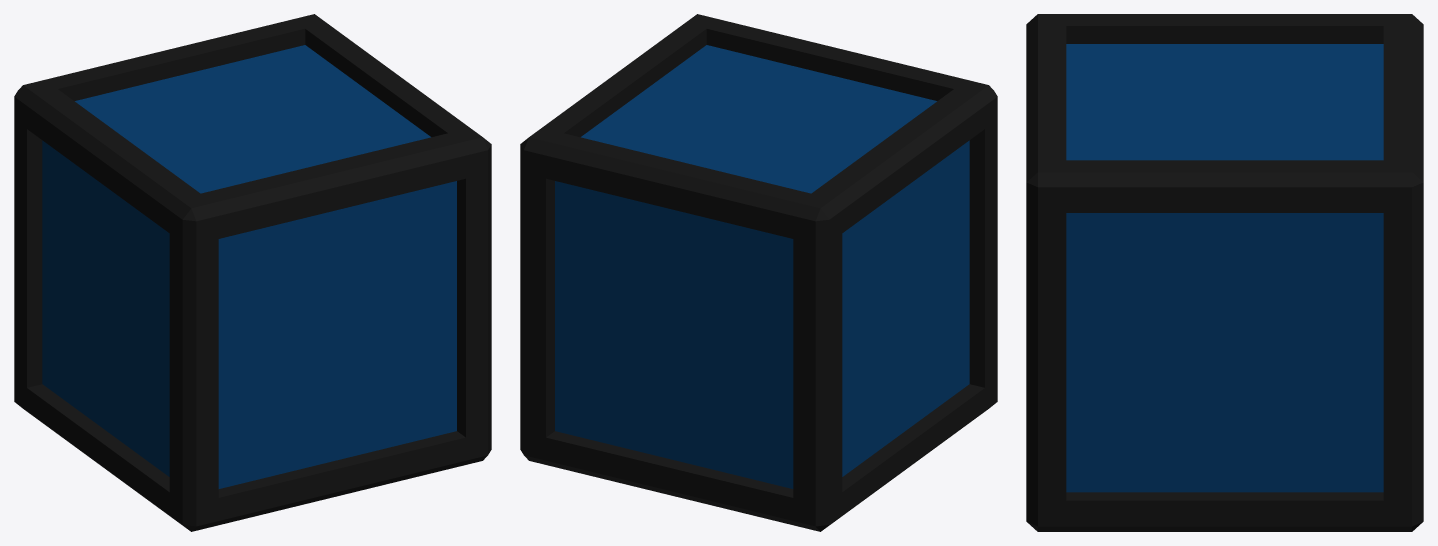
Rendered from Cubes.fbx.
3 renders of one model, left to right at view 1: azimuth 30°, elevation 25°; view 2: azimuth 150°, elevation 25°; view 3: azimuth 270°, elevation 25°, orthographic. The views are drawn at different scales.
Visible parts, largest first — view 1: CubeBlue; view 2: CubeBlue; view 3: CubeBlue.
Boxes of the visible parts, x1,y1,x2,y2 form: CubeBlue: (14, 14, 491, 531); CubeBlue: (520, 14, 997, 531); CubeBlue: (1026, 14, 1423, 531).
Size of the model in its own units: 2 by 2 by 2.
